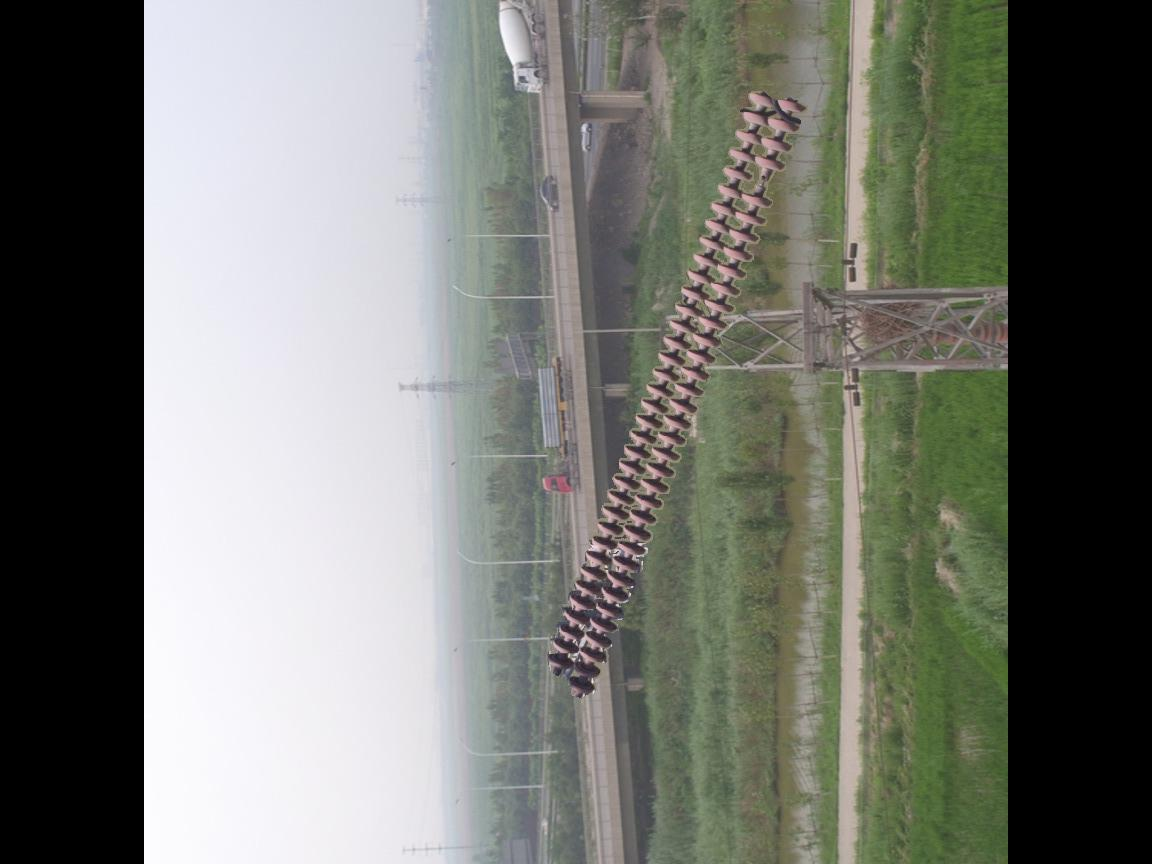insulator: (544, 83, 810, 704), (923, 318, 1008, 349)
insulator_stringdrop: (741, 153, 787, 212)
